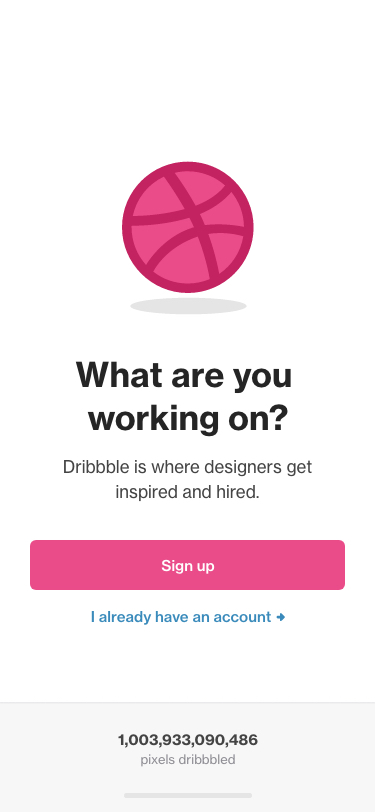Icon: (276, 612, 286, 622)
Image: (121, 162, 255, 315)
Text: (75, 361, 292, 437), (64, 459, 313, 502), (92, 610, 272, 626), (118, 733, 259, 748), (141, 754, 236, 767)
TextButton: (30, 540, 346, 591)
